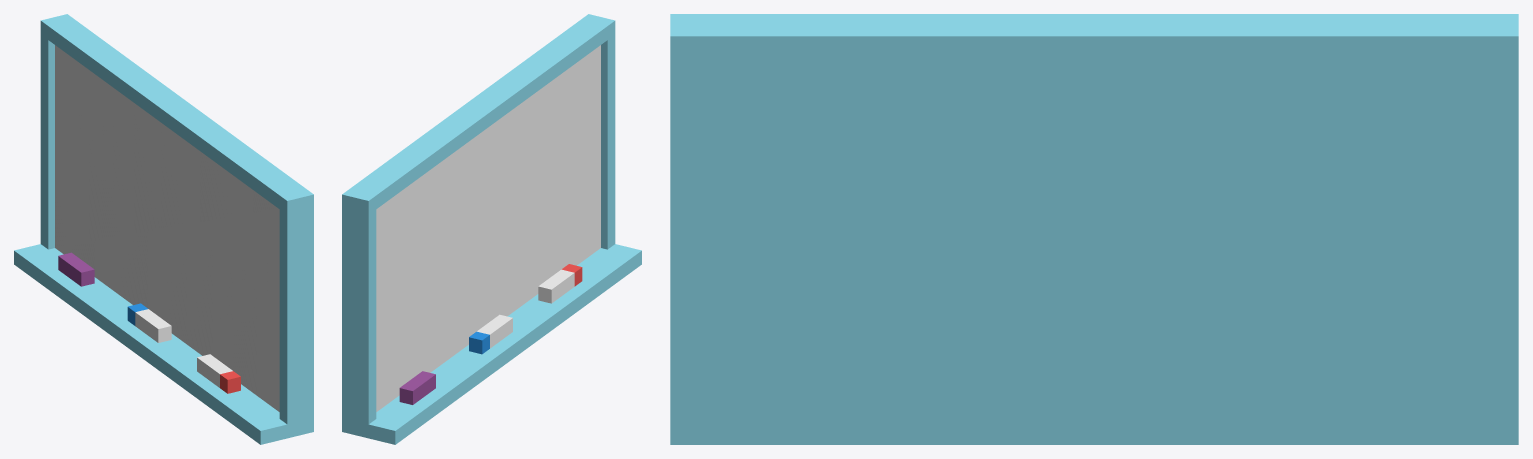
File: Whiteboard.fbx
3 views of the same model, side by side, from view 1: azimuth 30°, elevation 25°; view 2: azimuth 150°, elevation 25°; view 3: azimuth 270°, elevation 25° (orthographic). The views are drawn at different scales.
Parts seen in each view (by area): view 1: default; view 2: default; view 3: default.
Boxes of the visible parts, left/top/right/bottom form: default: left=14, top=14, right=313, bottom=444; default: left=342, top=14, right=641, bottom=444; default: left=670, top=14, right=1518, bottom=444.
Size of the model in its own units: 8 by 34 by 64.
